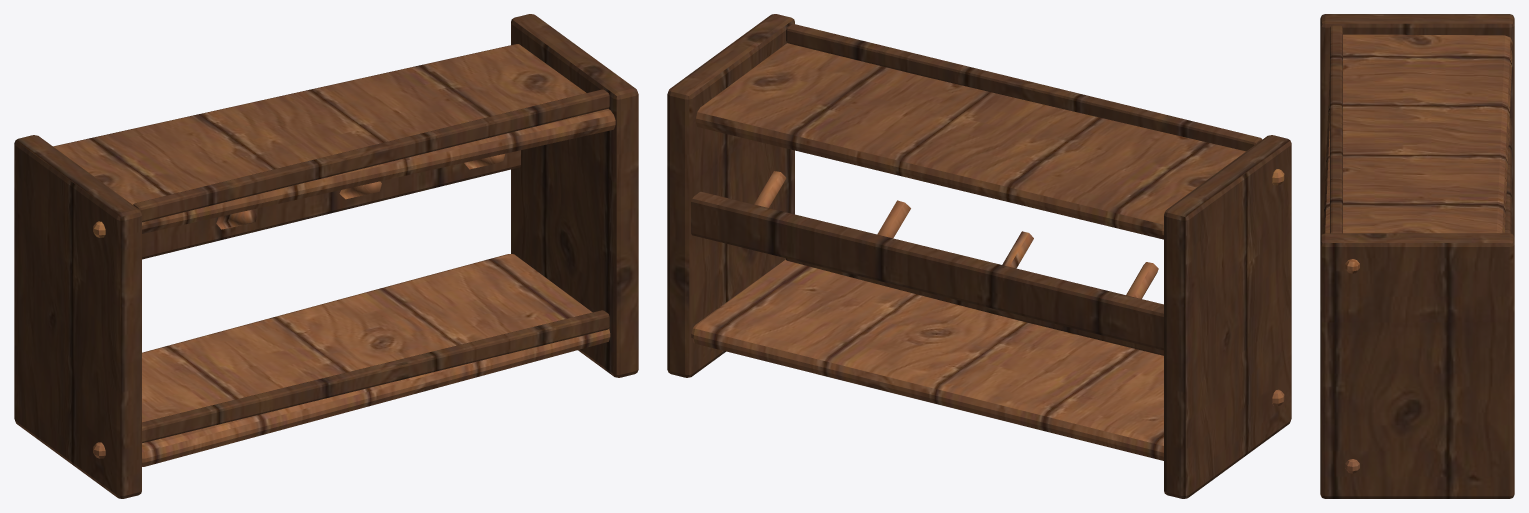
File: boot_rack.glb
The picture shows the model from 3 angles, left to right: view 1: azimuth 30°, elevation 25°; view 2: azimuth 150°, elevation 25°; view 3: azimuth 270°, elevation 25°; orthographic projection. The views are drawn at different scales.
Parts seen in each view (by area): view 1: model; view 2: model; view 3: model.
Part boxes in pixels (bbox=[...]): model: bbox=[14, 14, 638, 498]; model: bbox=[667, 14, 1291, 498]; model: bbox=[1320, 14, 1514, 498].
Size of the model in its own units: 0.8648 by 0.44 by 0.3.
Materials: 4 (4 with a texture image).
